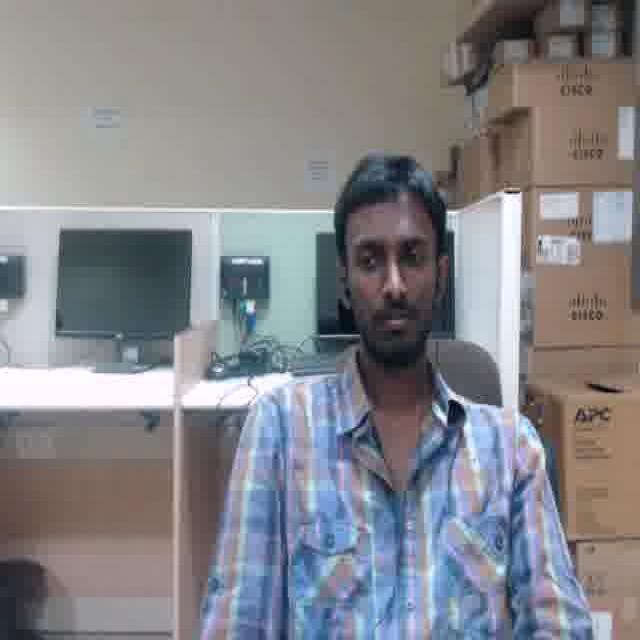Boredom: (345, 200, 431, 351)
